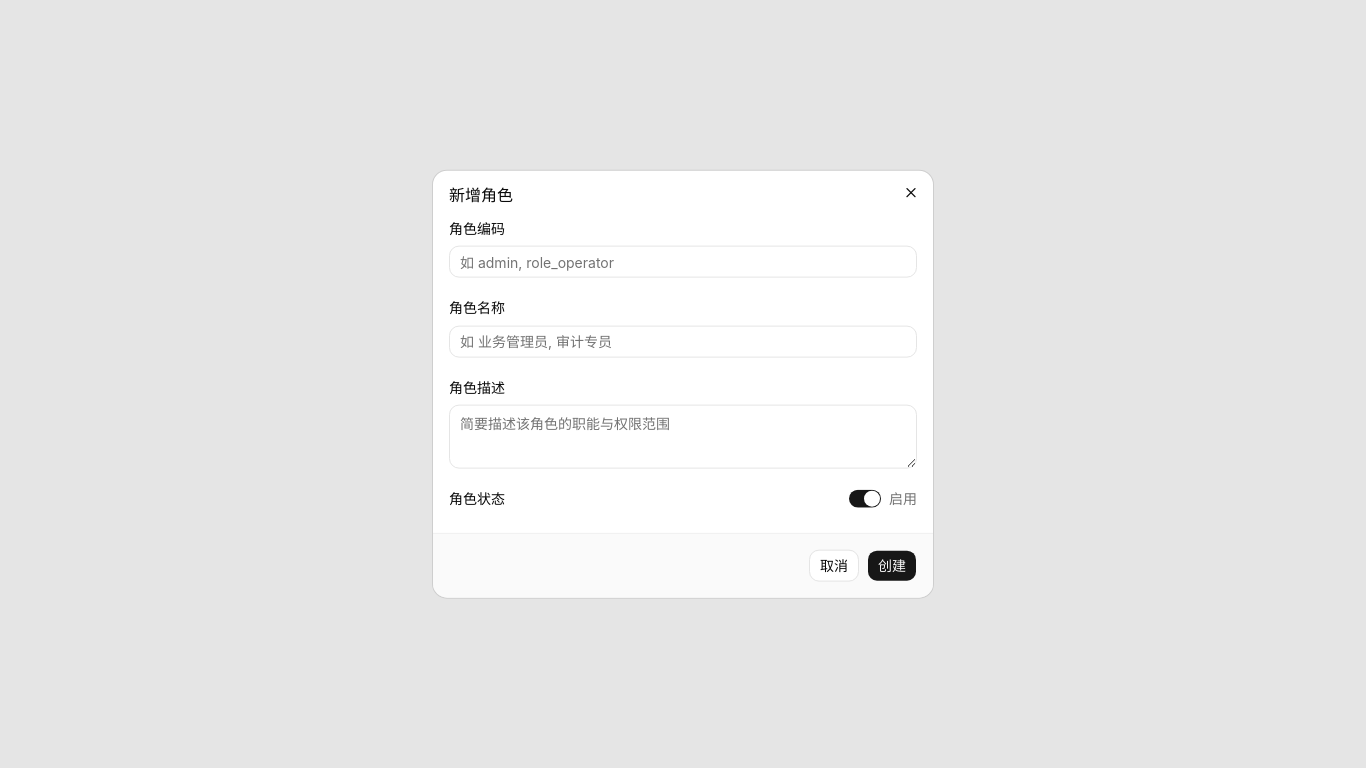
Test: RoleFormModal (RBAC 角色 新增/编辑弹窗) › 提交失败路径 - 后端返回 INVALID_ARGUMENT 时在 Alert 中展示错误信息
The image size is (1366, 768).
Type "dup_role" into the field labelled "角色编码".
click(683, 262); type("dup_role")  # box x1=449 y1=246 x2=917 y2=278
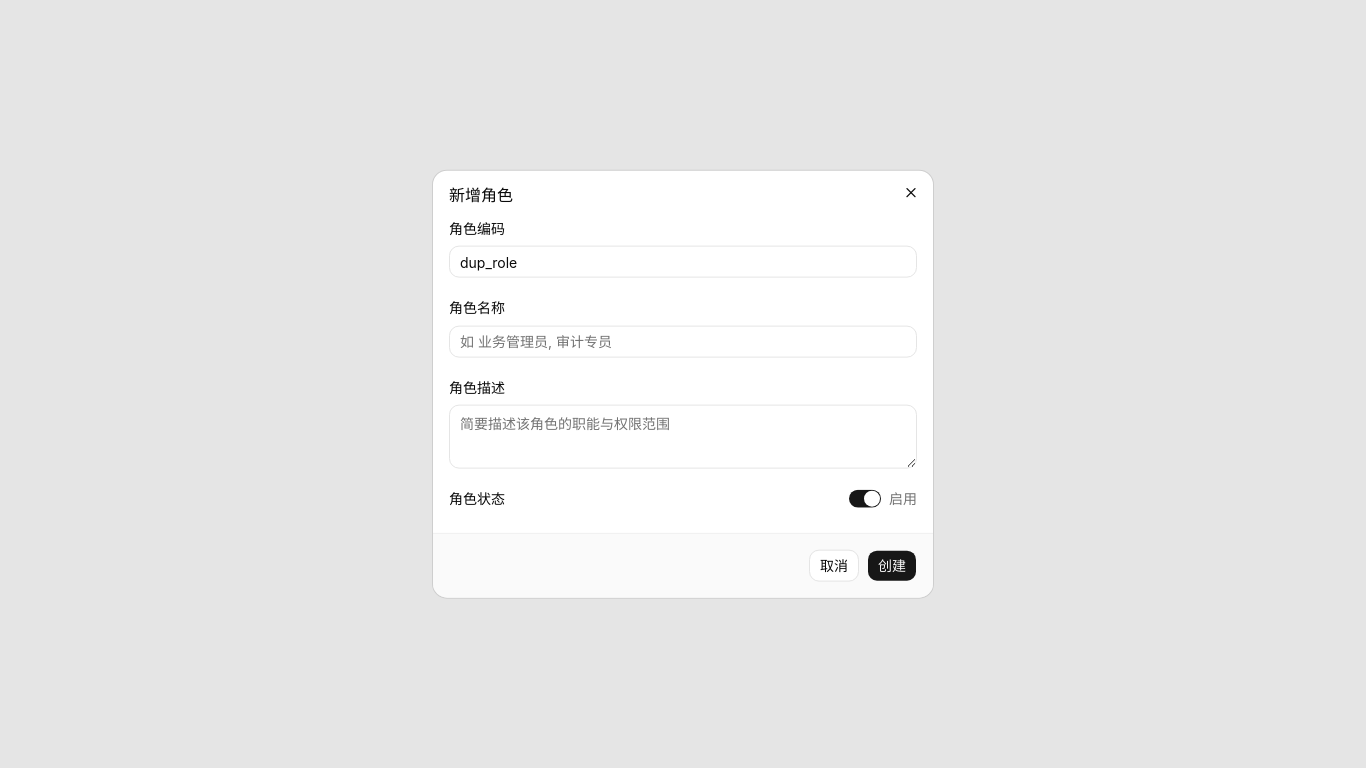
Type "重复角色" into the field labelled "角色名称".
click(683, 341); type("重复角色")  # box x1=449 y1=325 x2=917 y2=357
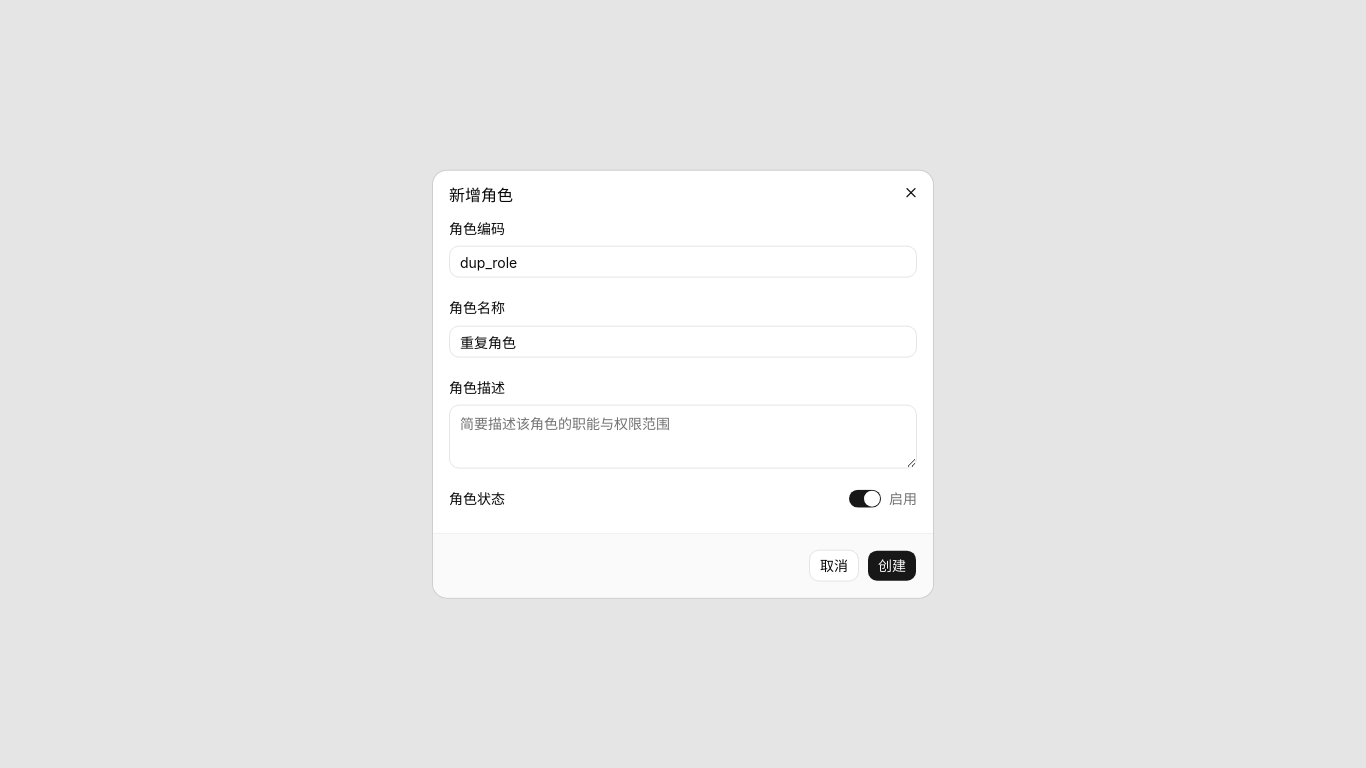
Click the button "创建".
click(892, 565)  # box x1=867 y1=549 x2=917 y2=581
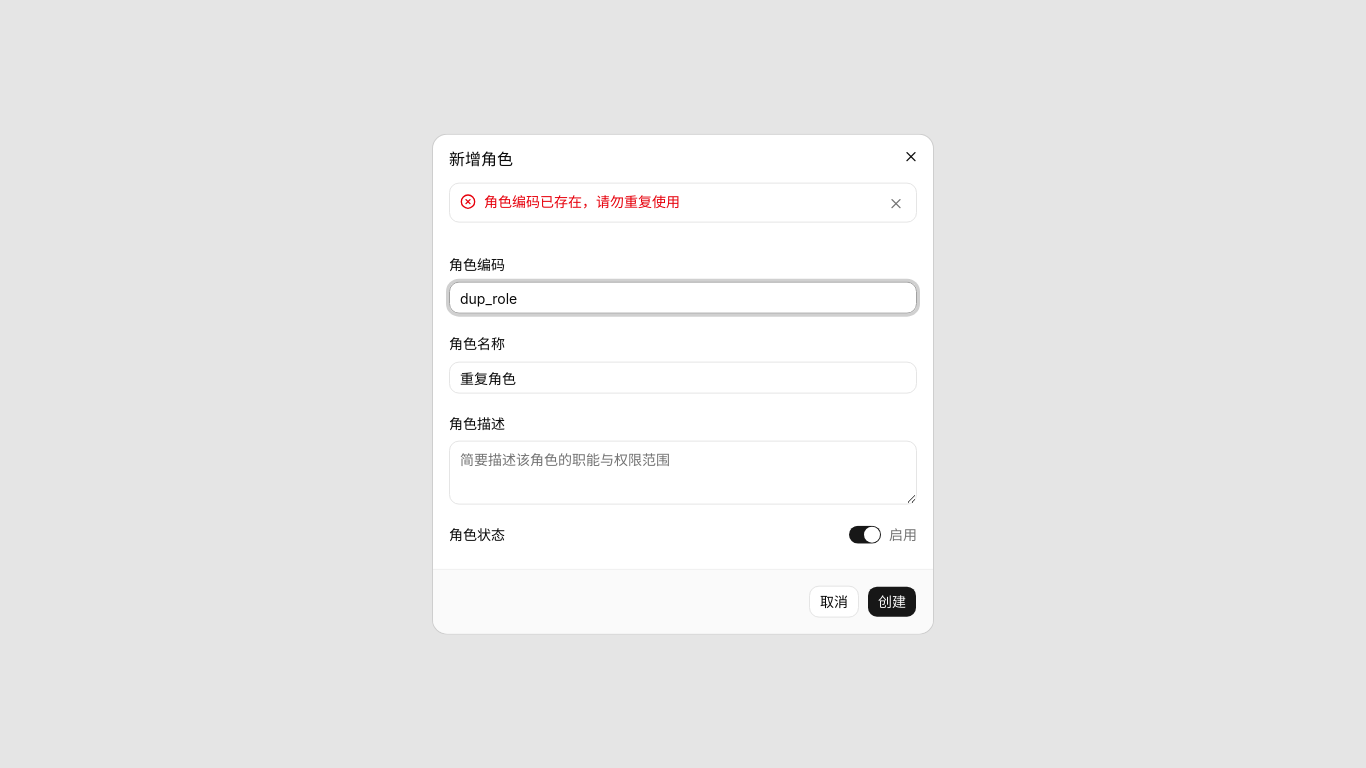
Expected: the button "创建" is enabled, x1=867 y1=585 x2=917 y2=617
Now the text "角色编码已存在，请勿重复使用" is shown, box x1=484 y1=193 x2=680 y2=210
